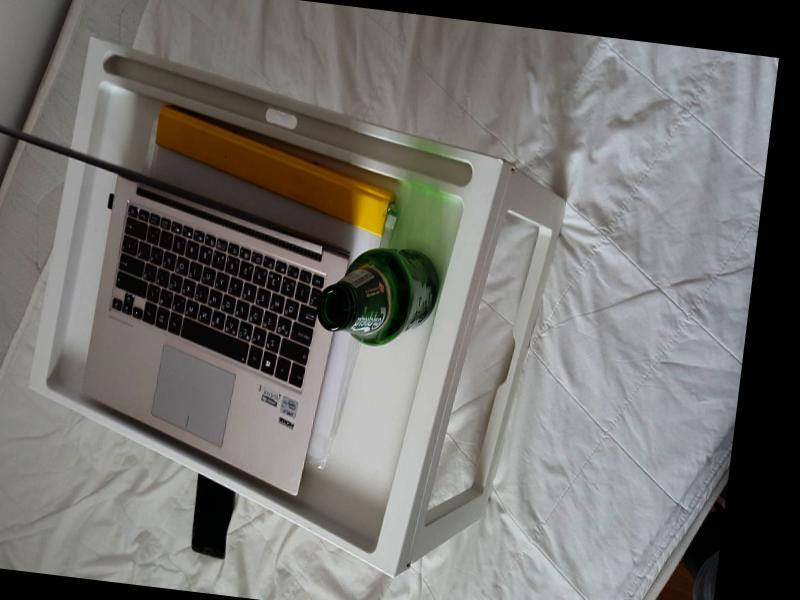Beer: (315, 239, 444, 353)
